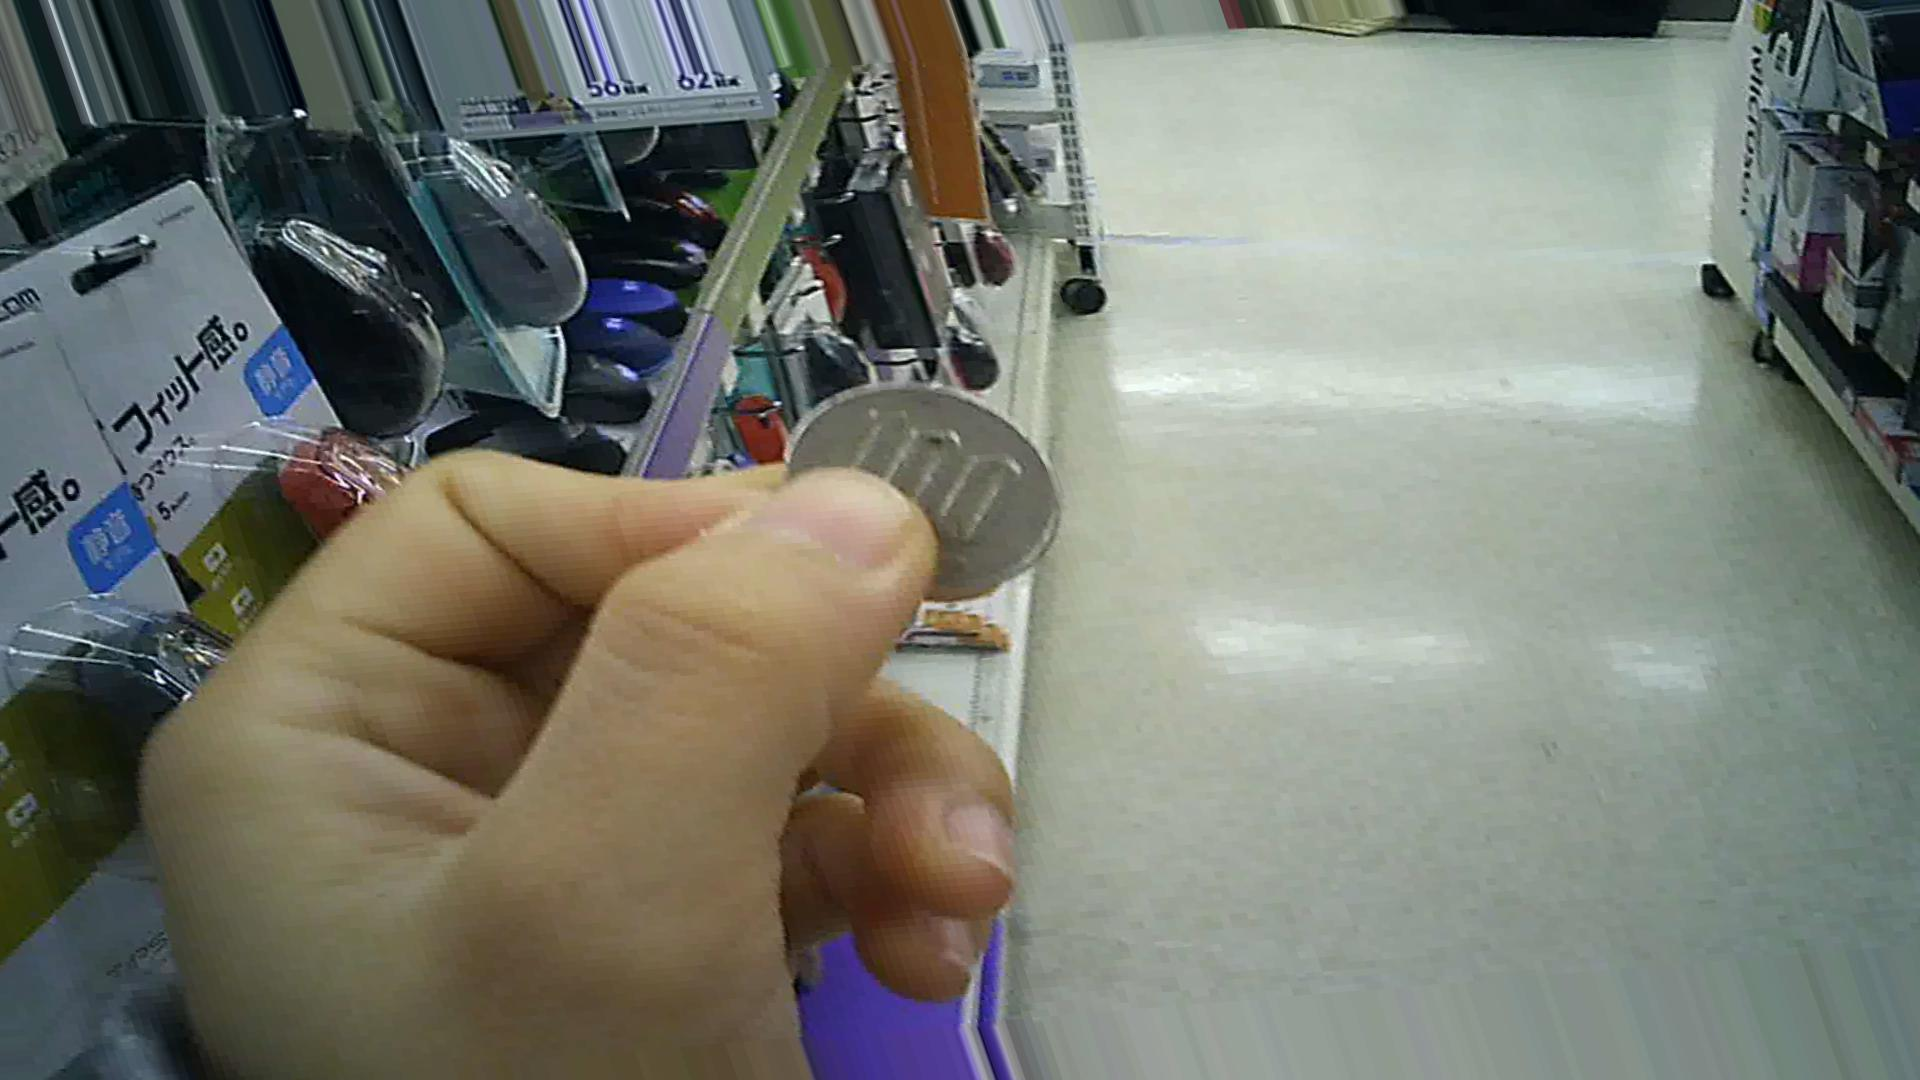100 Yen: (775, 373, 1062, 621)
